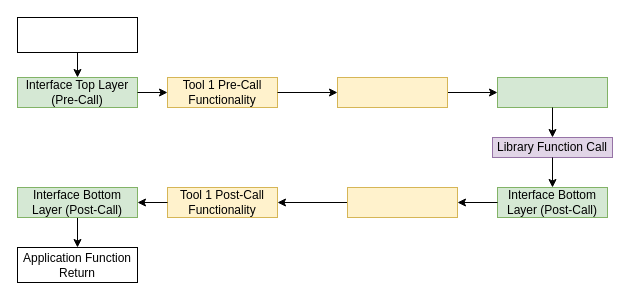
The diagram is 630 pixels wide and 300 high, and some of its shapes have lost their labels. The shapes that lost their labels are listed below. From the top down, each one's centre as x and y in pixels, then its label:
At pixel 77 34: "Application Function Call".
At pixel 392 92: "Tool 2 Pre-Call Functionality".
At pixel 552 92: "Interface Bottom Layer (Pre-Call)".
At pixel 402 202: "Tool 2 Post-Call Functionality".
